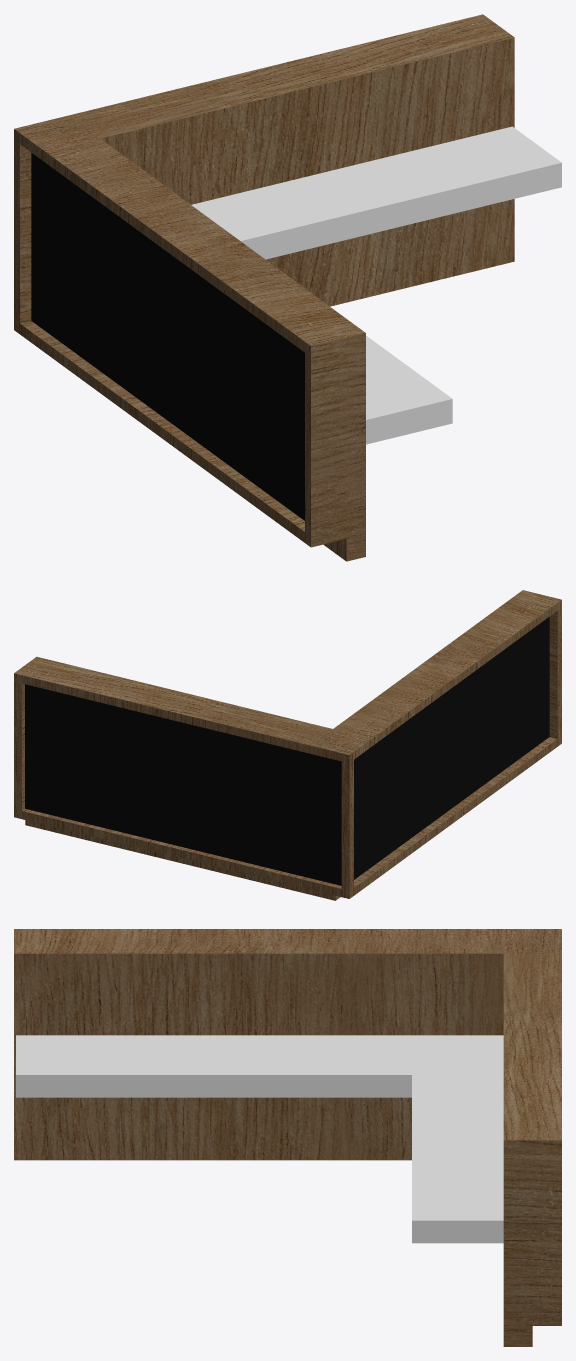
Rendered from mediatheek_bench.fbx.
3 views of the same model, one above another, from view 1: azimuth 30°, elevation 25°; view 2: azimuth 150°, elevation 25°; view 3: azimuth 270°, elevation 25° (orthographic). The views are drawn at different scales.
Parts seen in each view (by area): view 1: Cube, Cube.001; view 2: Cube; view 3: Cube, Cube.001.
Part boxes in pixels (left/top/right/bottom): Cube: left=14, top=14, right=514, bottom=561; Cube.001: left=191, top=126, right=561, bottom=444; Cube: left=14, top=590, right=561, bottom=900; Cube: left=14, top=929, right=561, bottom=1346; Cube.001: left=16, top=1035, right=503, bottom=1243.
Bounding box in the file's own units: 1323 × 604 × 1451.
